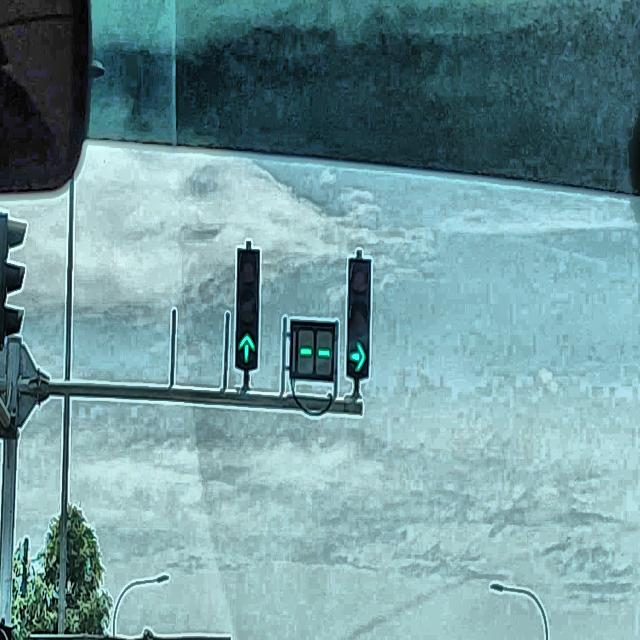green: (344, 258, 372, 380), (235, 248, 260, 370)
